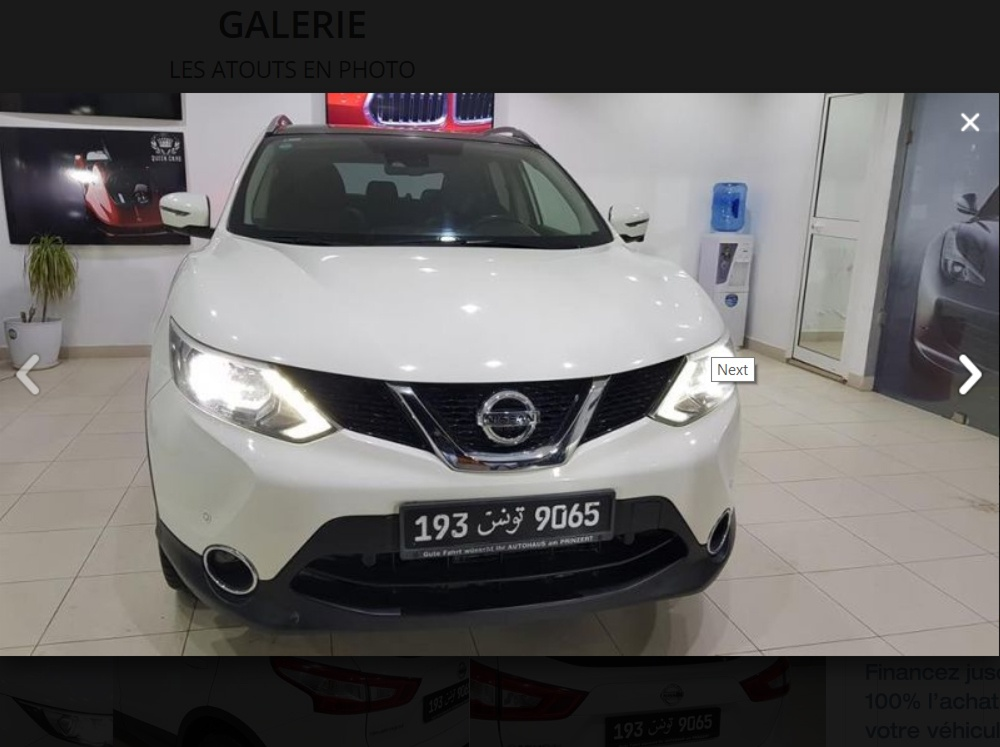LP: (400, 492, 618, 551)
